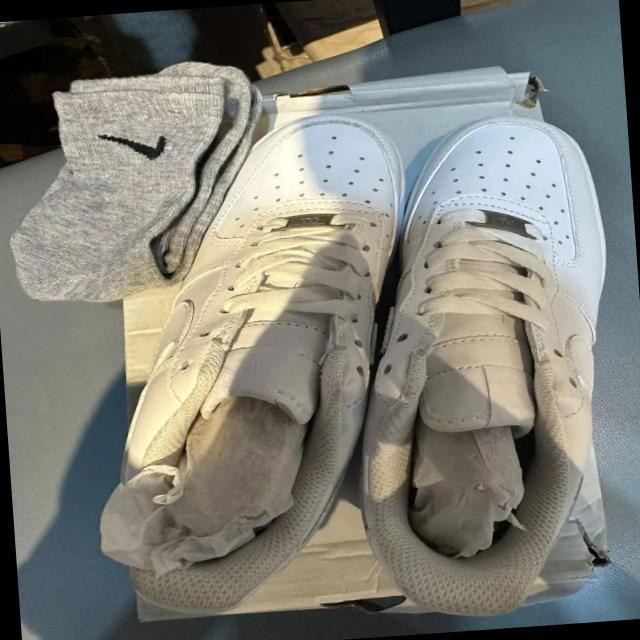nike fake air force: (75, 104, 448, 612), (326, 106, 630, 624)
